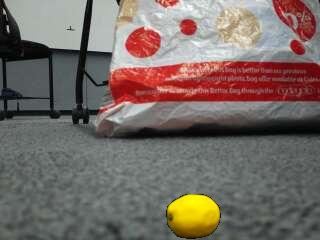lemon: (168, 194, 220, 238)
